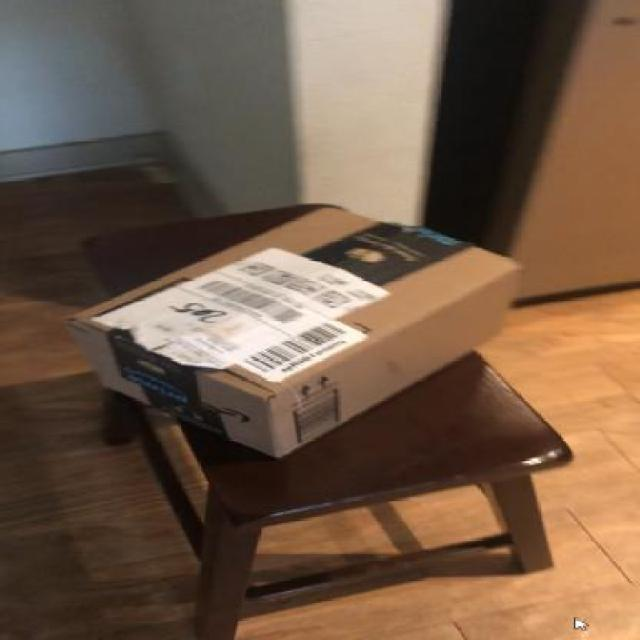cardboxes: (56, 203, 542, 468)
